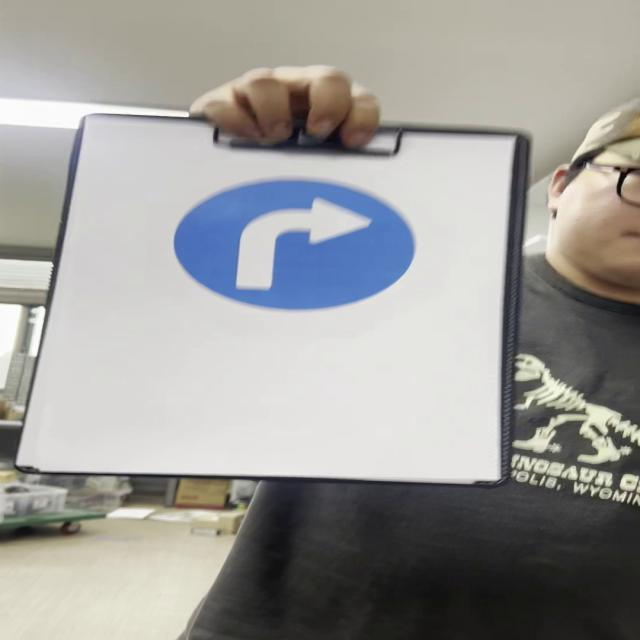right: (182, 174, 419, 314)
